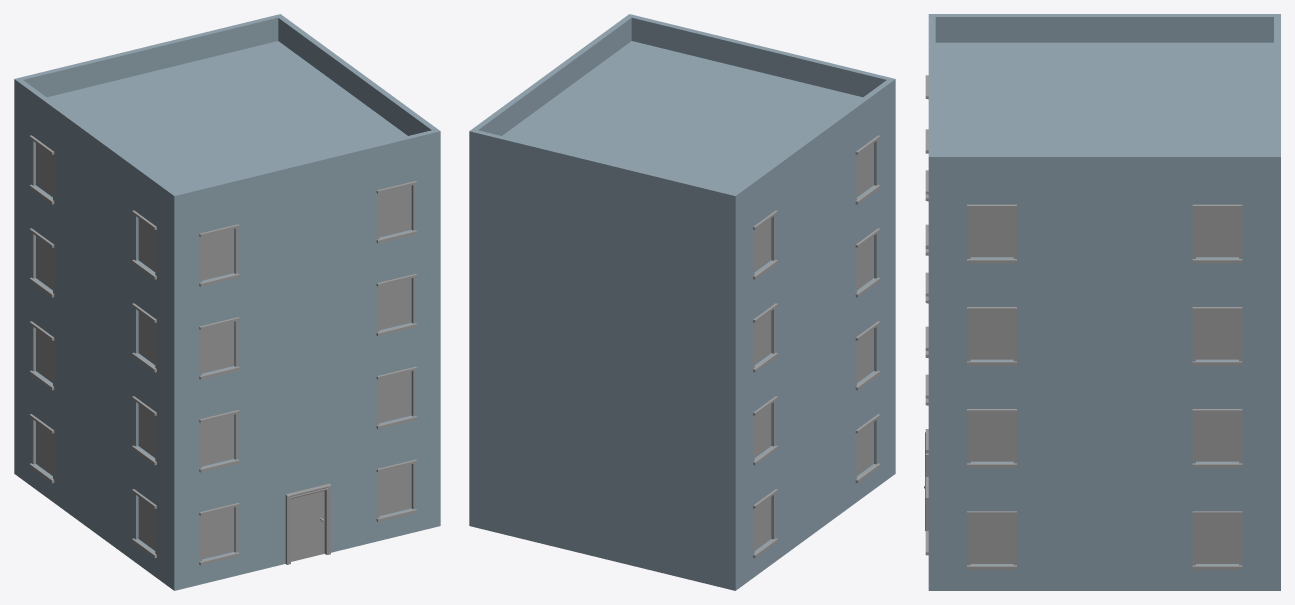
File: SM_House_Var_F.fbx
3 views of the same model, side by side, from view 1: azimuth 30°, elevation 25°; view 2: azimuth 150°, elevation 25°; view 3: azimuth 270°, elevation 25° (orthographic). The views are drawn at different scales.
Parts seen in each view (by area): view 1: SM__House_Var_F; view 2: SM__House_Var_F; view 3: SM__House_Var_F.
Boxes of the visible parts, left/top/right/bottom form: SM__House_Var_F: left=14, top=14, right=440, bottom=590; SM__House_Var_F: left=469, top=14, right=895, bottom=590; SM__House_Var_F: left=924, top=14, right=1280, bottom=590.
Size of the model in its own units: 6.1 by 8.5 by 6.33.
